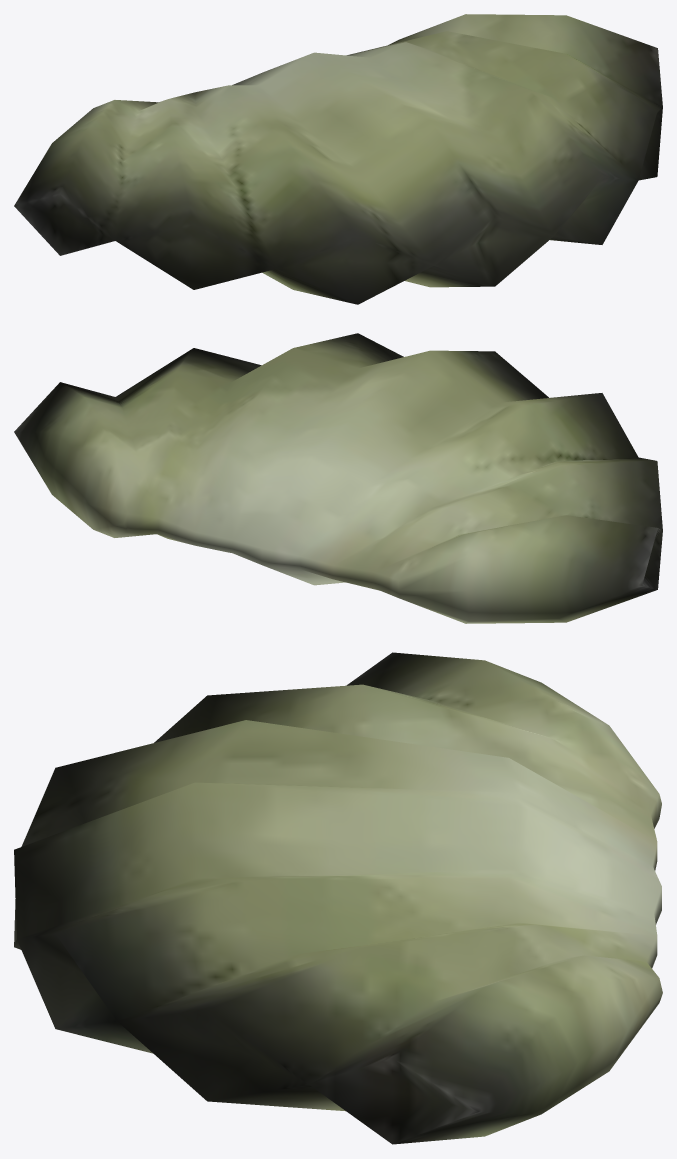
File: ITMI_SHELL_01.glb
3 renders of one model, top to bottom at view 1: azimuth 30°, elevation 25°; view 2: azimuth 150°, elevation 25°; view 3: azimuth 270°, elevation 25°, orthographic. The views are drawn at different scales.
Parts seen in each view (by area): view 1: Mesh; view 2: Mesh; view 3: Mesh.
Boxes of the visible parts, bbox=[...] form: Mesh: bbox=[14, 14, 662, 304]; Mesh: bbox=[14, 333, 662, 623]; Mesh: bbox=[14, 652, 662, 1144].
Size of the model in its own units: 0.2884 by 0.073 by 0.1855.
1 material, 1 textured.
